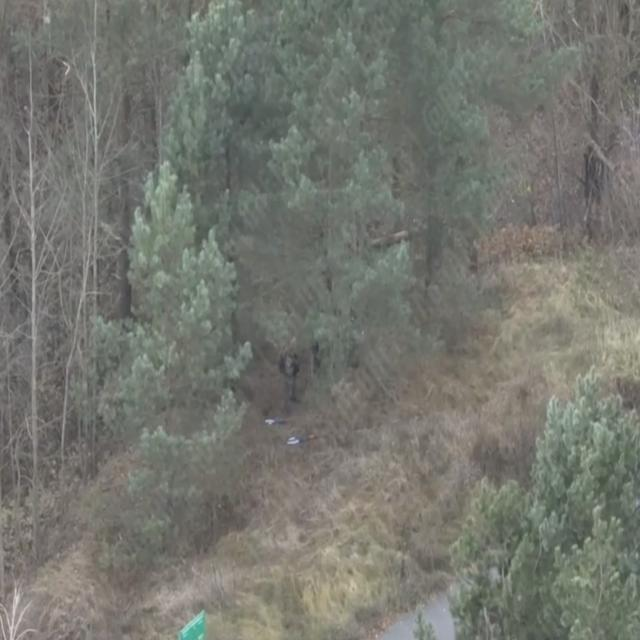infantry: (278, 339, 302, 401), (309, 328, 326, 378)
